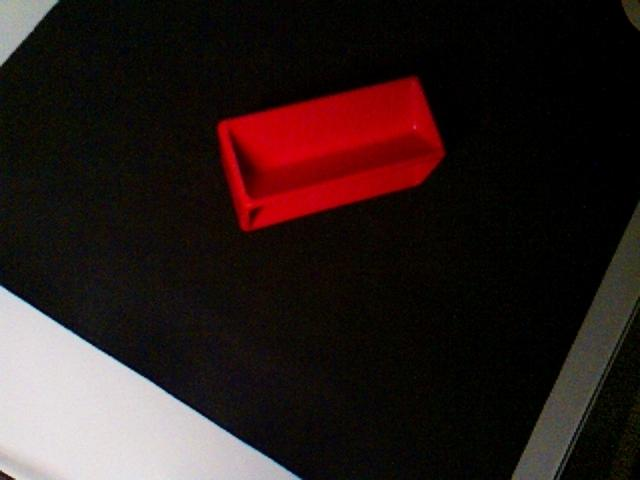red: (215, 73, 447, 233)
